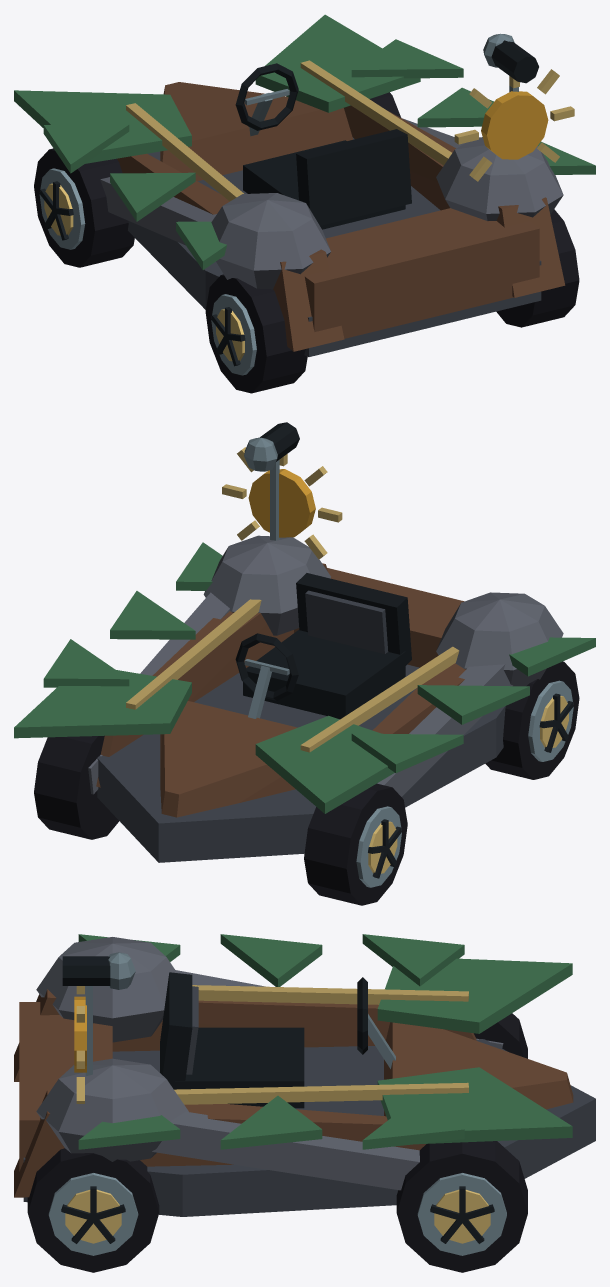
File: kart.glb
3 renders of one model, top to bottom at view 1: azimuth 30°, elevation 25°; view 2: azimuth 150°, elevation 25°; view 3: azimuth 270°, elevation 25°, orthographic. The views are drawn at different scales.
Parts seen in each view (by area): view 1: identity-nature-nature-root-cradle-and-leaf-bow, identity-nature-driver-cockpit, identity-nature-motif-leaves, wheel-rear-left, wheel-front-left, identity-nature-motif-sun, wheel-rear-right, identity-nature-motif-microphone; view 2: identity-nature-nature-root-cradle-and-leaf-bow, identity-nature-driver-cockpit, identity-nature-motif-leaves, wheel-front-left, wheel-rear-left, wheel-front-right, identity-nature-motif-sun, identity-nature-motif-microphone; view 3: identity-nature-nature-root-cradle-and-leaf-bow, identity-nature-motif-leaves, wheel-front-right, wheel-rear-right, identity-nature-driver-cockpit, identity-nature-motif-microphone, identity-nature-motif-sun, wheel-front-left.
Boxes of the visible parts, box(x1,y1,x2,y2) form: identity-nature-nature-root-cradle-and-leaf-bow: box(14, 14, 565, 356); identity-nature-driver-cockpit: box(235, 63, 411, 229); identity-nature-motif-leaves: box(43, 39, 595, 269); wheel-rear-left: box(205, 274, 307, 393); wheel-front-left: box(34, 148, 134, 267); identity-nature-motif-sun: box(454, 69, 574, 181); wheel-rear-right: box(496, 209, 579, 327); identity-nature-motif-microphone: box(483, 33, 538, 91); identity-nature-nature-root-cradle-and-leaf-bow: box(14, 535, 563, 862); identity-nature-driver-cockpit: box(235, 573, 411, 719); identity-nature-motif-leaves: box(43, 542, 595, 772); wheel-front-left: box(304, 783, 407, 905); wheel-rear-left: box(485, 661, 579, 779); wheel-front-right: box(34, 735, 119, 839); identity-nature-motif-sun: box(222, 447, 342, 559); identity-nature-motif-microphone: box(244, 422, 299, 540); identity-nature-nature-root-cradle-and-leaf-bow: box(14, 937, 595, 1216); identity-nature-motif-leaves: box(78, 934, 464, 1149); wheel-front-right: box(396, 1141, 527, 1272); wheel-rear-right: box(27, 1148, 159, 1272); identity-nature-driver-cockpit: box(160, 972, 395, 1108); identity-nature-motif-microphone: box(62, 952, 135, 1076); identity-nature-motif-sun: box(74, 986, 86, 1103); wheel-front-left: box(474, 1013, 527, 1058).
Size of the model in its own units: 2.3 by 1.57 by 2.75.
